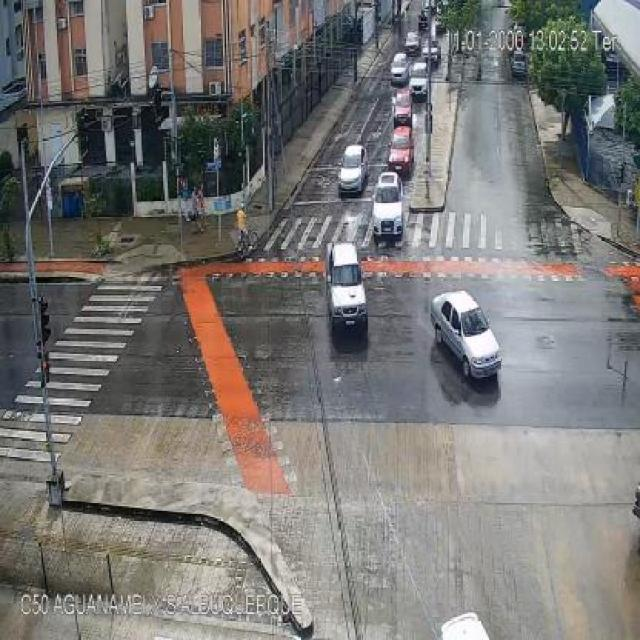car: (431, 291, 501, 378), (325, 242, 366, 326), (372, 171, 402, 243), (339, 145, 368, 197), (388, 126, 414, 176), (394, 88, 411, 126), (376, 188, 398, 202), (410, 62, 428, 77)
traffic-lights: (39, 296, 51, 343)
